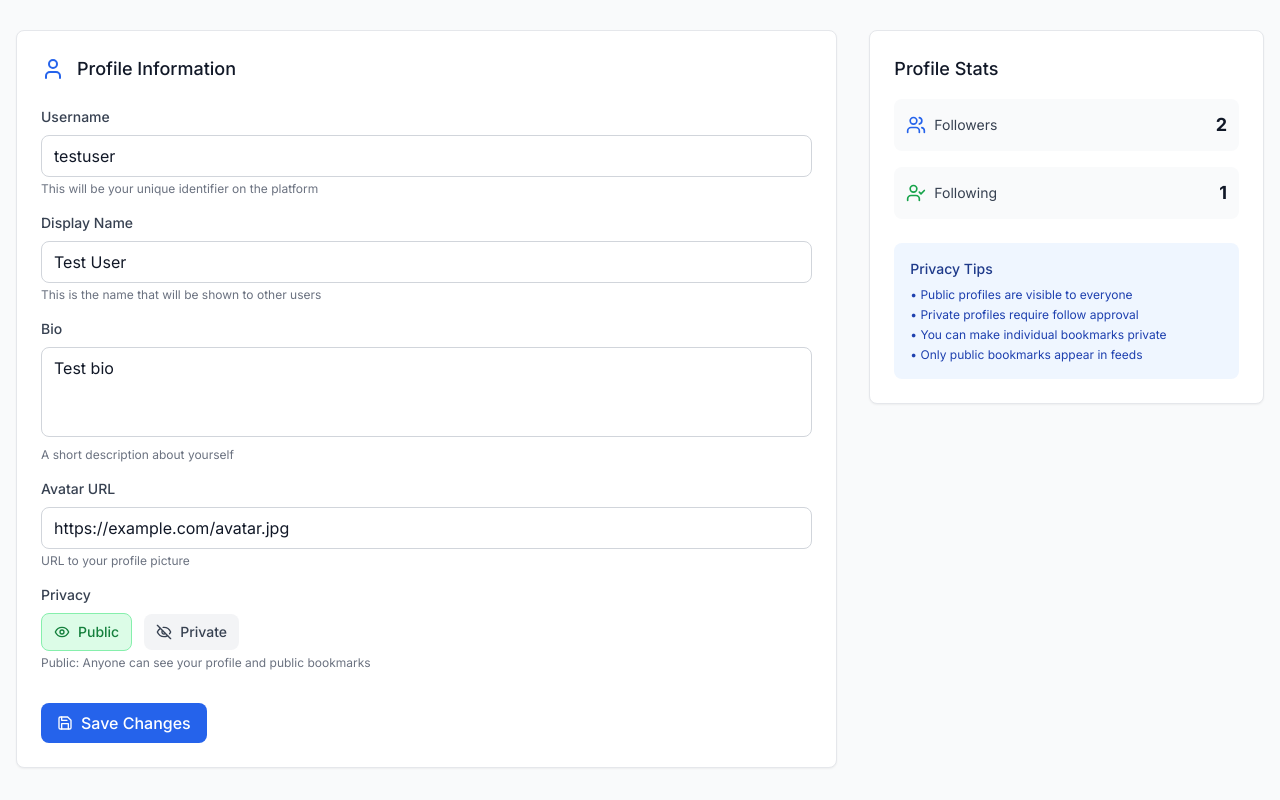
Test: Profile Page › Save Functionality › should show loading state during save
(page scrolled)
Expected: the field showing "testuser" below "Username" is shown, [41,135,812,177]
Click the button "Save Changes" at (124, 723), box [41,703,207,743]
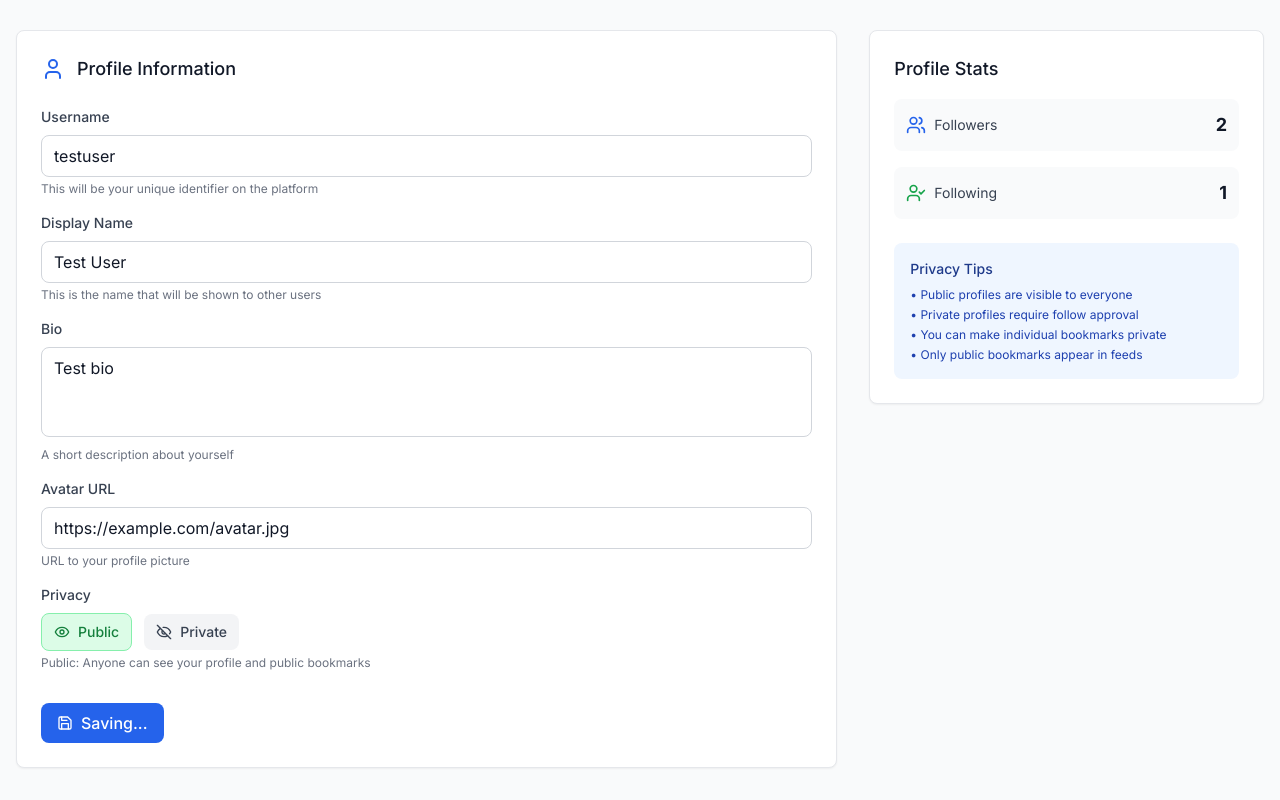
Result: the text "Saving..." is shown at [81,711,148,735]
Result: the button named "save changes" is disabled at [41,703,164,743]
